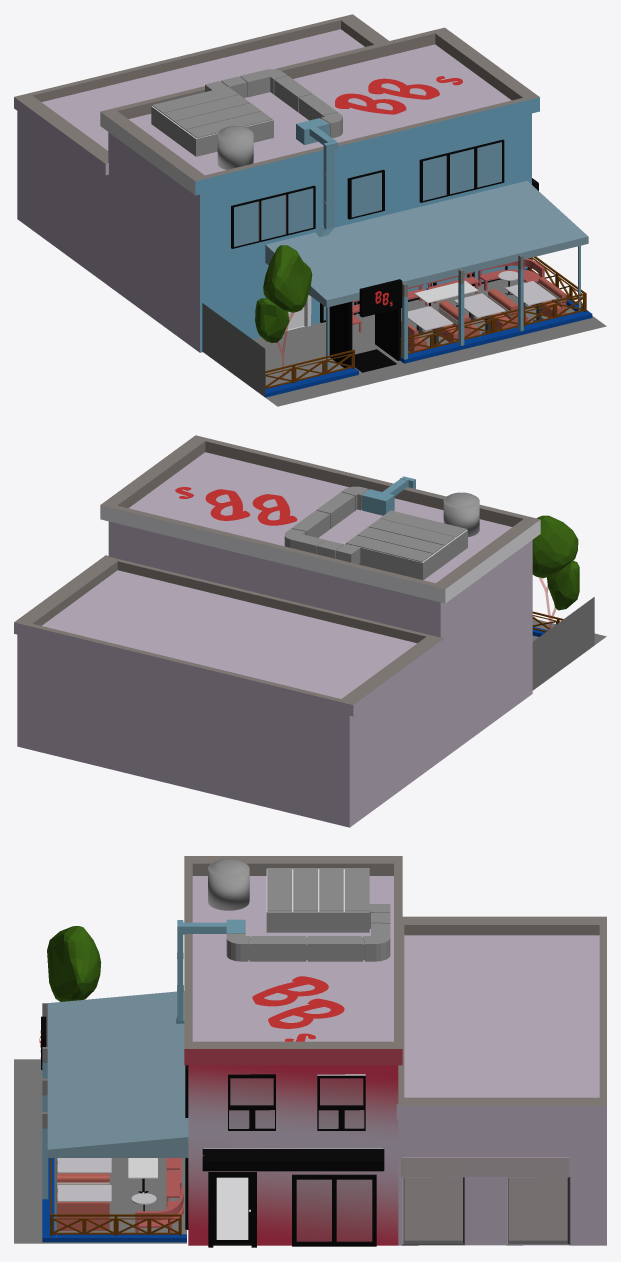
3 views of the same model, one above another, from view 1: azimuth 30°, elevation 25°; view 2: azimuth 150°, elevation 25°; view 3: azimuth 270°, elevation 25° (orthographic). The views are drawn at different scales.
Parts seen in each view (by area): view 1: House, RoofShade, Floor, Pipe, Icosphere, FrontDoor.002, BBSIgn, Fence006, Icosphere.001, FrontDoor.001, Curve.001, Curve (+12 smaller); view 2: House, Pipe, Floor, Icosphere, Icosphere.001, Curve, Curve.001; view 3: House, RoofShade, Floor, Pipe, Icosphere, Cube.001, Curve, Curve.001, fence004, fence005, Table.001, Table.002 (+3 smaller).
Boxes of the visible parts, x1,y1,x2,y2 form: House: (14, 14, 539, 352); RoofShade: (265, 181, 588, 370); Floor: (202, 245, 606, 406); Pipe: (205, 69, 342, 237); Icosphere: (263, 245, 312, 312); FrontDoor.002: (329, 301, 352, 367); BBSIgn: (359, 279, 402, 317); Fence006: (265, 349, 354, 388); Icosphere.001: (255, 298, 289, 342); FrontDoor.001: (375, 308, 400, 360); Curve.001: (368, 78, 439, 99); Curve: (335, 93, 406, 114); House: (14, 435, 540, 827); Pipe: (284, 476, 415, 564); Floor: (532, 597, 606, 690); Icosphere: (532, 515, 578, 578); Icosphere.001: (547, 560, 579, 610); Curve: (252, 494, 297, 525); Curve.001: (205, 489, 250, 520); House: (184, 856, 606, 1247); RoofShade: (47, 991, 188, 1157); Floor: (14, 1003, 186, 1243); Pipe: (176, 904, 390, 1023); Icosphere: (47, 926, 101, 1001); Cube.001: (57, 1202, 109, 1230); Curve: (252, 976, 328, 1006); Curve.001: (268, 998, 344, 1028); fence004: (115, 1214, 181, 1235); fence005: (50, 1214, 116, 1235); Table.001: (57, 1185, 111, 1201); Table.002: (57, 1158, 111, 1173).
Bounding box in the file's own units: 8.01 × 4.35 × 10.19.
Materials: 36 (1 with a texture image).
